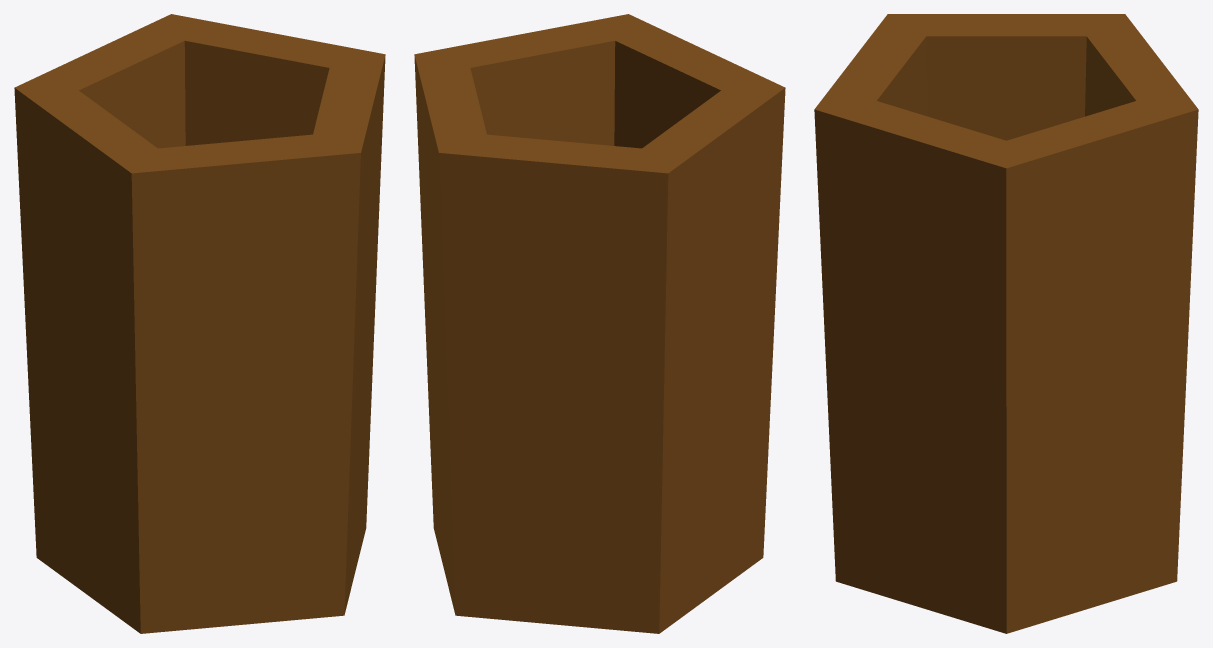
File: SM_cup.fbx
3 views of the same model, side by side, from view 1: azimuth 30°, elevation 25°; view 2: azimuth 150°, elevation 25°; view 3: azimuth 270°, elevation 25° (orthographic).
Visible parts, largest first — view 1: Cylinder020; view 2: Cylinder020; view 3: Cylinder020.
Part boxes in pixels (<box>): Cylinder020: <box>14,14,385,633</box>; Cylinder020: <box>414,14,785,633</box>; Cylinder020: <box>814,14,1198,633</box>.
Size of the model in its own units: 6.49 by 9.31 by 6.82.
